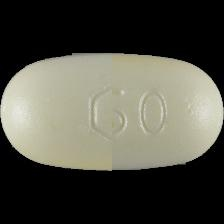54868-0610: (0, 0, 224, 224)
